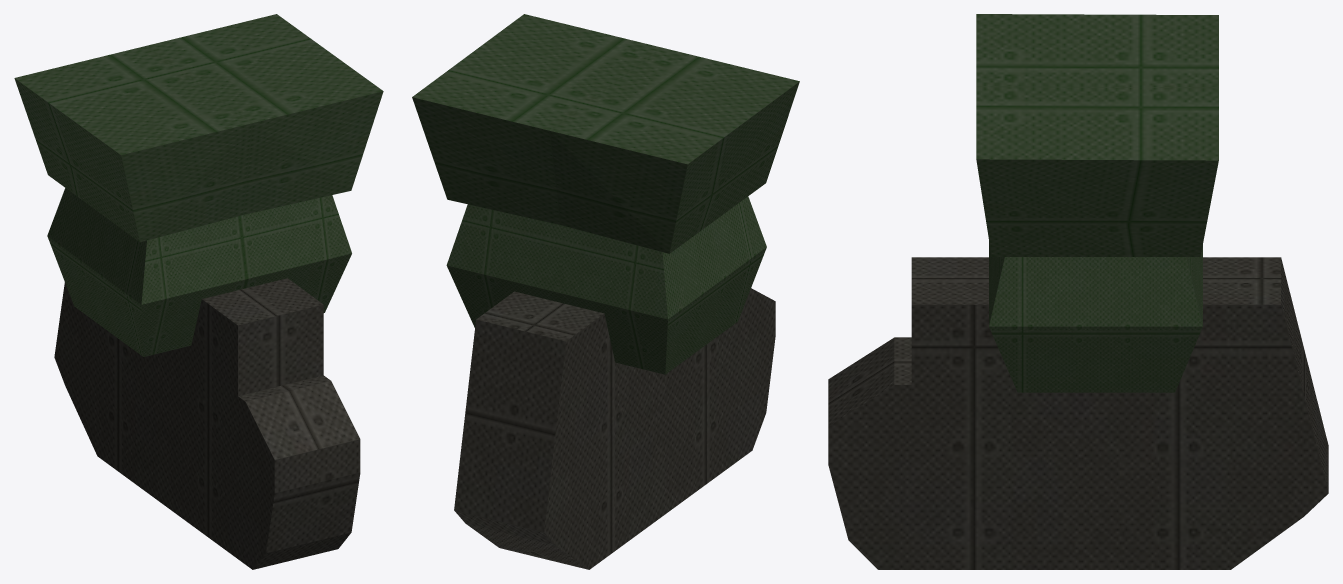
Rendered from pelvis.obj.
3 views of the same model, side by side, from view 1: azimuth 30°, elevation 25°; view 2: azimuth 150°, elevation 25°; view 3: azimuth 270°, elevation 25° (orthographic). The views are drawn at different scales.
Visible parts, largest first — view 1: pelvis; view 2: pelvis; view 3: pelvis.
Part boxes in pixels (x1=…): pelvis: x1=14, y1=14, x2=383, y2=569; pelvis: x1=412, y1=14, x2=799, y2=569; pelvis: x1=828, y1=14, x2=1328, y2=569.
Size of the model in its own units: 2.9 by 4.27 by 4.21.
Materials: 2 (2 with a texture image).
